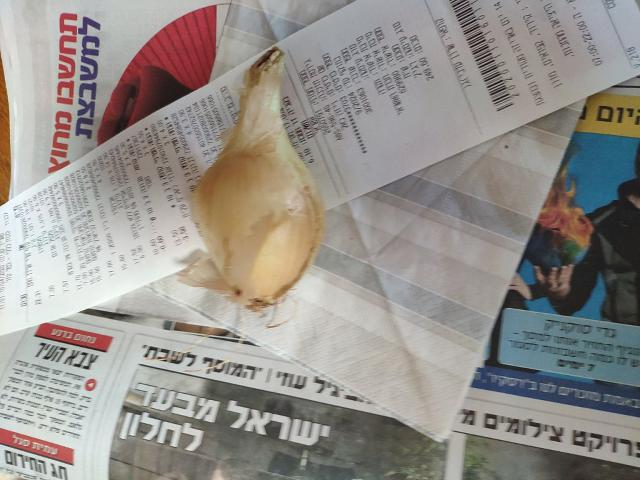onion: (197, 116, 329, 298)
